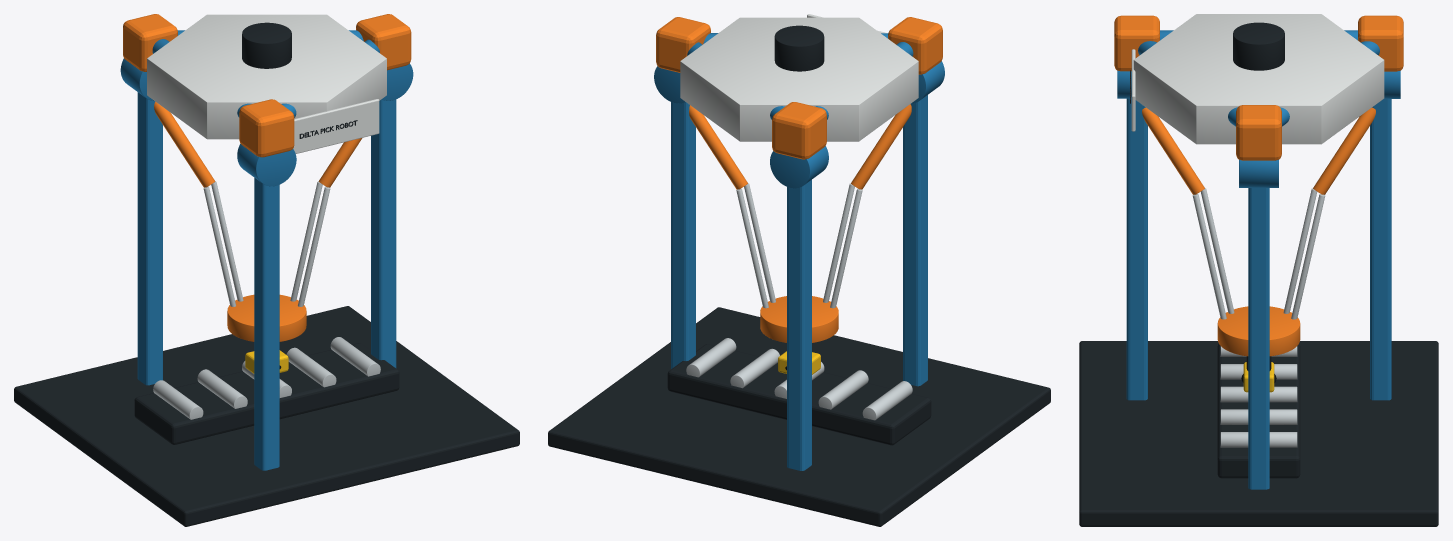
The model's file is delta_pick_robot.glb.
3 views of the same model, side by side, from view 1: azimuth 30°, elevation 25°; view 2: azimuth 150°, elevation 25°; view 3: azimuth 270°, elevation 25° (orthographic). The views are drawn at different scales.
Parts seen in each view (by area): view 1: BASE, OVERHEAD_DELTA_HOUSING, PICK_CONVEYOR, FRAME_POST_2, FRAME_POST_1, FRAME_POST_0, DELTA_SIGN, DELTA_SERVO_2, KIN_MOVING_PLATFORM, CENTER_CABLE_ENTRY, DELTA_SERVO_0, DELTA_SERVO_1 (+13 smaller); view 2: BASE, OVERHEAD_DELTA_HOUSING, PICK_CONVEYOR, FRAME_POST_1, FRAME_POST_2, FRAME_POST_0, DELTA_SERVO_1, CENTER_CABLE_ENTRY, KIN_MOVING_PLATFORM, DELTA_SERVO_0, DELTA_SERVO_2, KIN_SHOULDER_1 (+12 smaller); view 3: BASE, OVERHEAD_DELTA_HOUSING, FRAME_POST_0, FRAME_POST_1, FRAME_POST_2, PICK_CONVEYOR, KIN_MOVING_PLATFORM, DELTA_SERVO_0, CENTER_CABLE_ENTRY, DELTA_SERVO_1, DELTA_SERVO_2, UPPER_ARM_1 (+11 smaller).
Part boxes in pixels (x1,y1,x2,y2): BASE: (14,306,519,526); OVERHEAD_DELTA_HOUSING: (147,14,386,139); PICK_CONVEYOR: (134,343,399,444); FRAME_POST_2: (254,178,279,470); FRAME_POST_1: (137,92,162,385); FRAME_POST_0: (371,99,396,368); DELTA_SIGN: (293,99,379,153); DELTA_SERVO_2: (239,99,294,157); KIN_MOVING_PLATFORM: (227,294,306,341); CENTER_CABLE_ENTRY: (242,22,291,68); DELTA_SERVO_0: (356,14,411,70); DELTA_SERVO_1: (123,14,177,71); BASE: (548,307,1050,526); OVERHEAD_DELTA_HOUSING: (680,17,918,141); PICK_CONVEYOR: (667,344,931,445); FRAME_POST_1: (787,180,811,470); FRAME_POST_2: (903,95,927,386); FRAME_POST_0: (671,102,695,368); DELTA_SERVO_1: (772,102,826,159); CENTER_CABLE_ENTRY: (774,25,824,71); KIN_MOVING_PLATFORM: (760,296,838,342); DELTA_SERVO_0: (656,17,710,72); DELTA_SERVO_2: (888,17,942,74); KIN_SHOULDER_1: (770,146,828,188); BASE: (1079,341,1438,526); OVERHEAD_DELTA_HOUSING: (1133,14,1384,144); FRAME_POST_0: (1248,188,1269,489); FRAME_POST_1: (1370,99,1391,400); FRAME_POST_2: (1126,98,1147,400); PICK_CONVEYOR: (1217,344,1300,478); KIN_MOVING_PLATFORM: (1217,306,1300,356); DELTA_SERVO_0: (1236,105,1281,160); CENTER_CABLE_ENTRY: (1233,22,1284,70); DELTA_SERVO_1: (1358,15,1403,71); DELTA_SERVO_2: (1114,15,1159,71); UPPER_ARM_1: (1313,107,1375,194).
Size of the model in its own units: 2.65 by 2.95 by 2.35.
